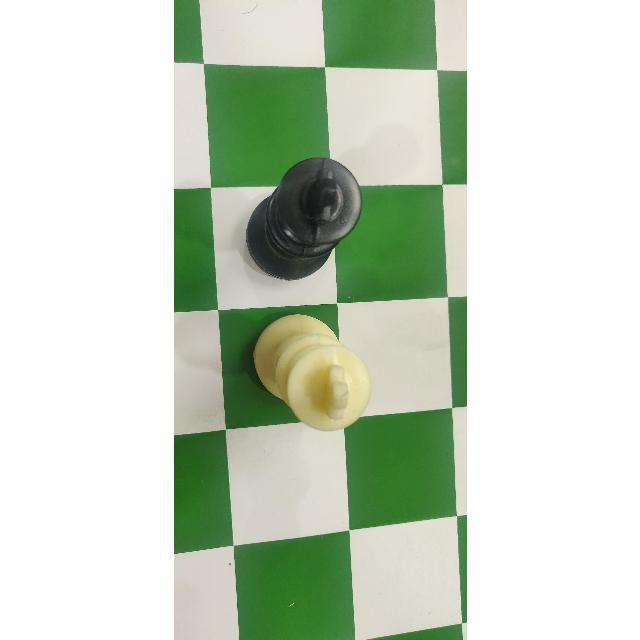black-king: (238, 141, 368, 281)
white-king: (242, 307, 383, 442)
